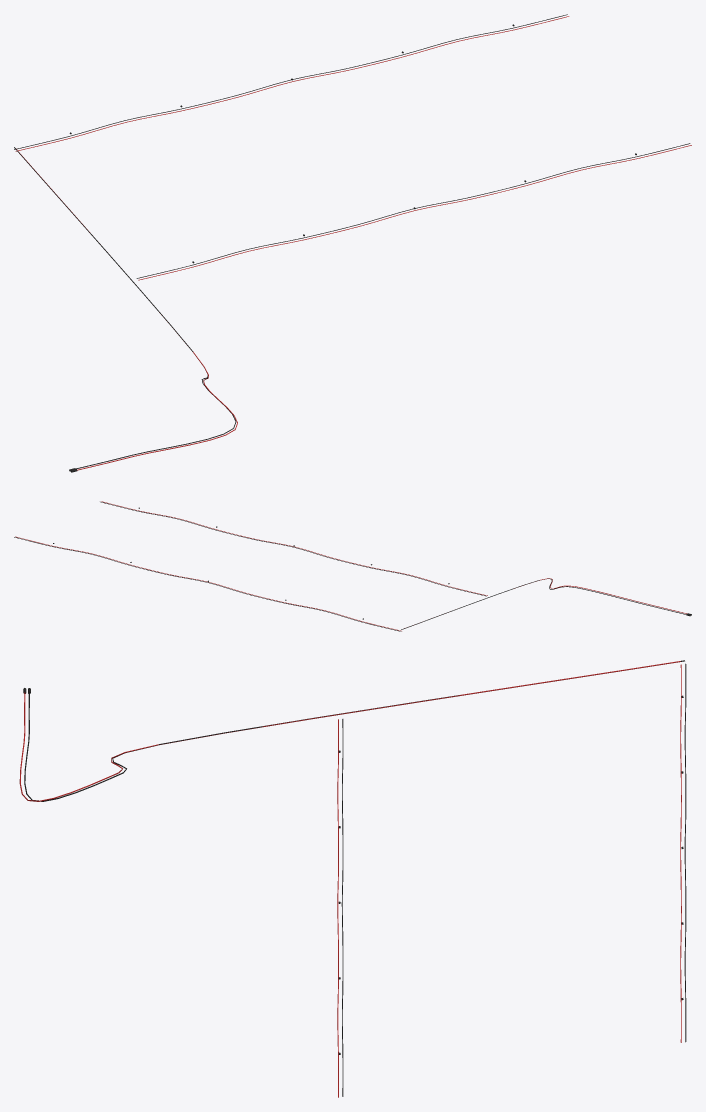
Rendered from A03_DC_Cable_MC4.fbx.
3 views of the same model, one above another, from view 1: azimuth 30°, elevation 25°; view 2: azimuth 150°, elevation 25°; view 3: azimuth 270°, elevation 25° (orthographic). The views are drawn at different scales.
Parts seen in each view (by area): view 1: String_R2_NEG, String_R1_POS, String_R1_NEG, String_R2_POS; view 2: String_R2_POS, String_R1_NEG, String_R2_NEG, String_R1_POS, HomeRun_NEG; view 3: HomeRun_POS, HomeRun_NEG.
Part boxes in pixels (<box>): String_R2_NEG: <box>14,14,567,149</box>; String_R1_POS: <box>138,145,691,280</box>; String_R1_NEG: <box>136,143,690,278</box>; String_R2_POS: <box>15,16,569,151</box>; String_R2_POS: <box>15,536,401,631</box>; String_R1_NEG: <box>100,501,486,596</box>; String_R2_NEG: <box>14,537,400,631</box>; String_R1_POS: <box>101,501,487,595</box>; HomeRun_NEG: <box>401,578,686,629</box>; HomeRun_POS: <box>19,661,680,801</box>; HomeRun_NEG: <box>24,660,684,801</box>.
Size of the model in its own units: 7.81 by 1.13 by 4.4.
3 materials, 1 textured.
